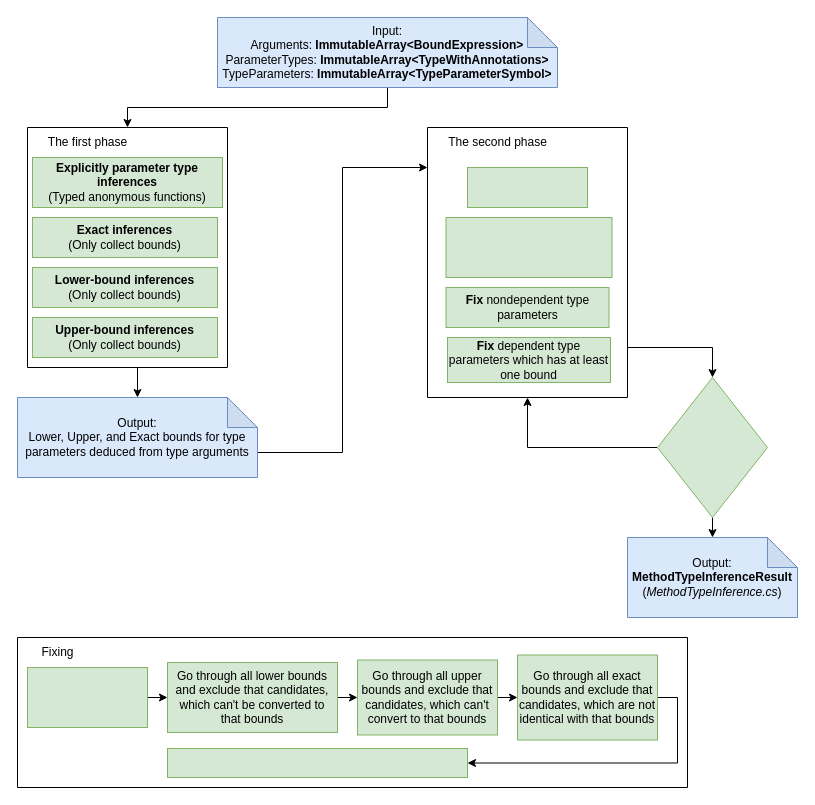
The diagram is 815 pixels wide and 805 high, and some of its shapes have lost their labels. The centre of each missing label's shape, as x and y in pixels:
All type parameters are inferred or no progress was made: (712,447)
Collect all candidates from bounds of the type parameter: (87,697)
Fix the type parameter by remained candidate or fail: (317,763)
Initialize input/output dependencies: (527,187)
Output type inferences (anonymous functions without explicitly typed parameters): (528,247)
